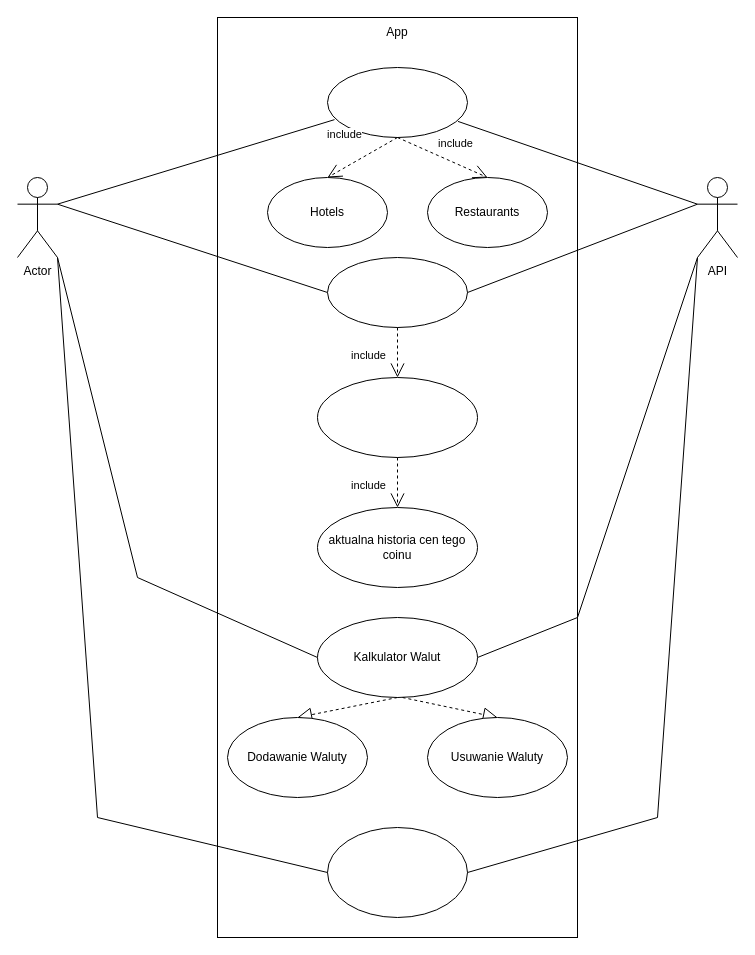
Image size: 755x955. Some labels were removed from this diagram. Here are the shapes that lost their labels. From the top down, the box of each, then its label:
(326, 66, 468, 138): Informacja o miejscach podczas podróży
(326, 256, 468, 328): Otrzymanie listy coinów
(316, 376, 478, 458): szczegółowe informacje dotyczące wybranego coina
(326, 826, 468, 918): Get Information about users information and their activity
